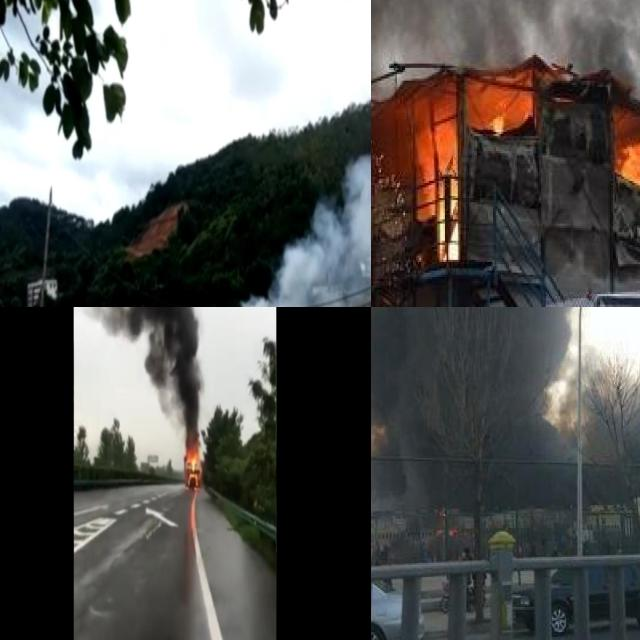fire: (423, 127, 461, 260), (613, 117, 640, 183), (186, 446, 202, 486), (485, 108, 509, 134)
smoke: (371, 307, 640, 502), (371, 0, 640, 191), (178, 50, 371, 307), (73, 307, 218, 446)
